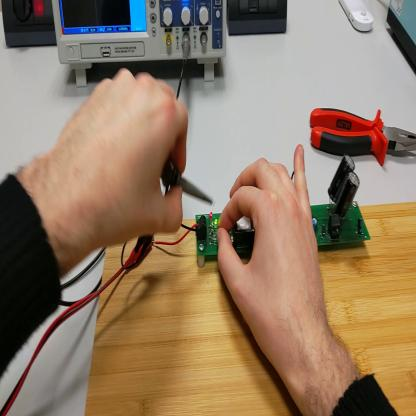hand: (217, 145, 332, 373), (55, 72, 188, 259)
high voltage board: (154, 156, 373, 255)
oscilloscope: (53, 1, 228, 86)
oscilloscope probe tip: (163, 168, 214, 211)
pliers: (309, 105, 416, 168)
socket: (3, 2, 58, 49)
welder station: (389, 2, 416, 73)
working area: (87, 200, 416, 414)
